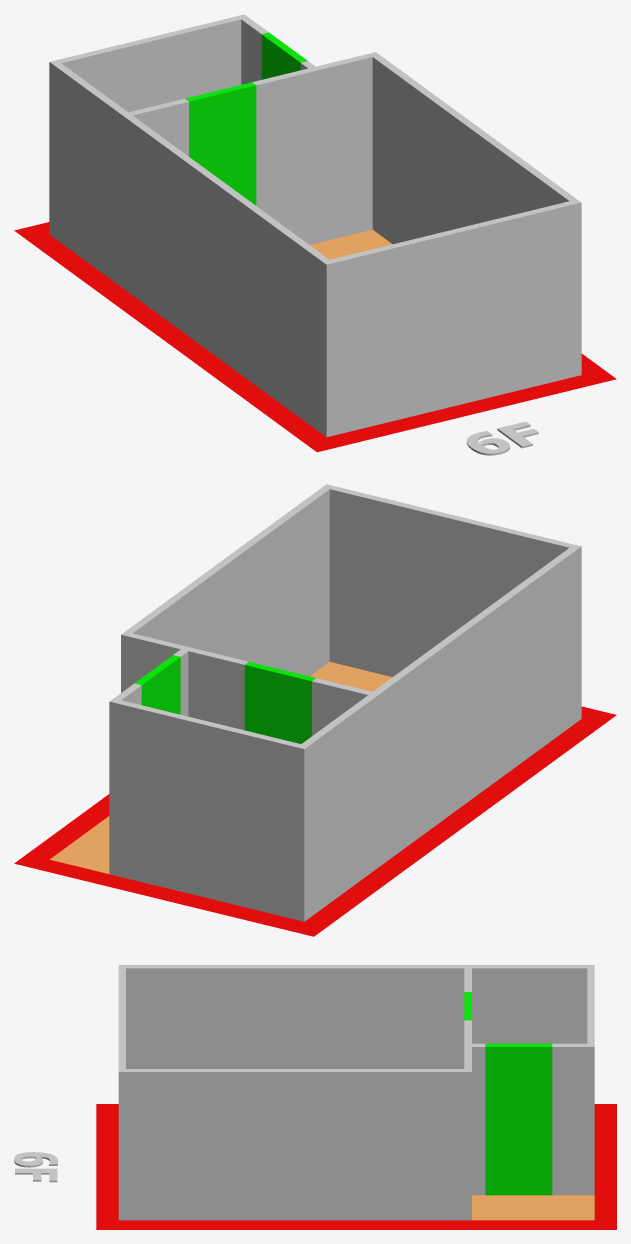
The picture shows the model from 3 angles, top to bottom: view 1: azimuth 30°, elevation 25°; view 2: azimuth 150°, elevation 25°; view 3: azimuth 270°, elevation 25°; orthographic projection. The views are drawn at different scales.
Visible parts, largest first — view 1: OuterShell, Group8, Group5, Group7, Group6, Group4, Group2, Group10, Group1, Group9, Group3, G_6F1; view 2: OuterShell, Group8, Group6, Group7, Group5, Group2, Group4, Group9, Group10, Group1; view 3: OuterShell, Group8, Group7, Group9, Group5, Group3, Group1, Group6, G_6F1.
Part boxes in pixels (x1,y1,x2,y2): OuterShell: (316, 52, 581, 437); Group8: (125, 115, 329, 433); Group5: (49, 60, 132, 289); Group7: (14, 222, 616, 452); Group6: (57, 14, 248, 112); Group4: (252, 68, 312, 244); Group2: (185, 82, 256, 205); Group10: (129, 98, 188, 156); Group1: (300, 61, 320, 243); Group9: (261, 32, 307, 79); Group3: (241, 17, 268, 84); G_6F1: (466, 421, 538, 455); OuterShell: (121, 484, 581, 721); Group8: (373, 548, 577, 865); Group6: (109, 698, 300, 919); Group7: (14, 662, 616, 936); Group5: (297, 692, 380, 921); Group2: (244, 662, 315, 743); Group4: (188, 648, 248, 730); Group9: (134, 655, 180, 714); Group10: (312, 678, 371, 735); Group1: (173, 646, 191, 716); OuterShell: (118, 965, 471, 1220); Group8: (126, 965, 464, 1068); Group7: (96, 1104, 616, 1229); Group9: (485, 1043, 552, 1195); Group5: (464, 965, 594, 1043); Group3: (552, 1043, 587, 1195); Group1: (464, 1043, 485, 1195); Group6: (587, 968, 594, 1195); G_6F1: (14, 1152, 57, 1182).
Bounding box in the file's own units: 400 × 220 × 810.
